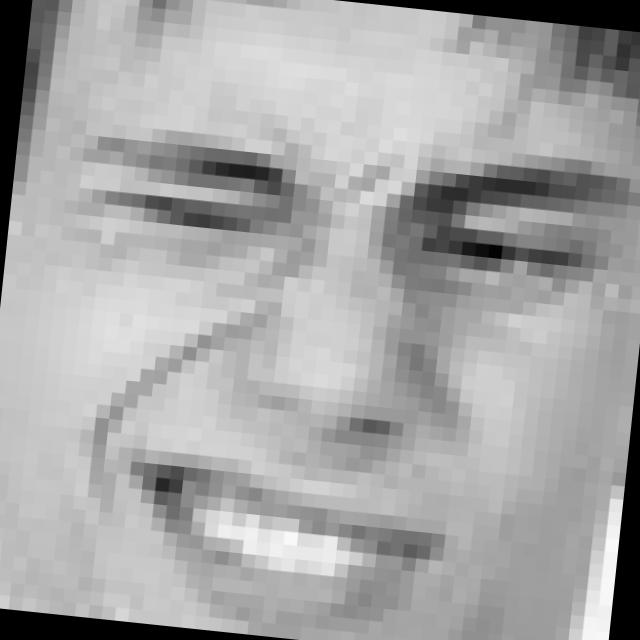disgust: (25, 103, 630, 640)
